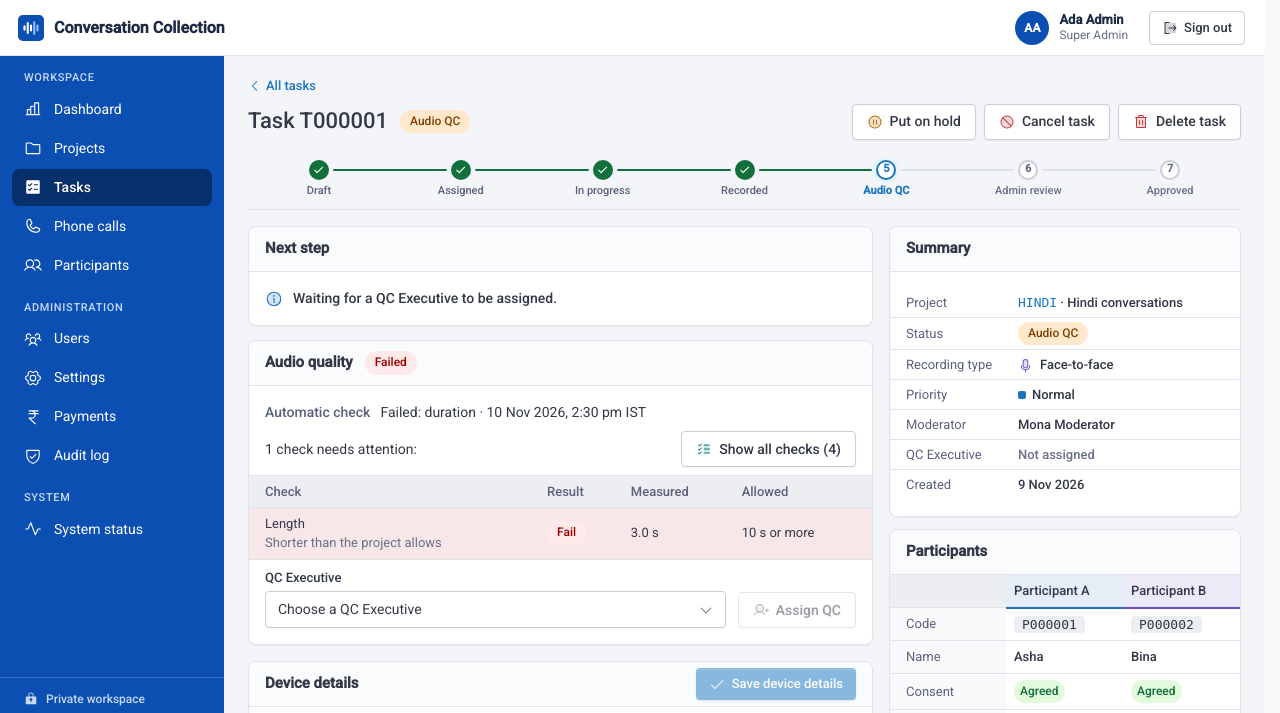
audio quality card › lets a manager assign a QC Executive, never the session's moderator
Step 1. Select "Quinn QC (quinn@example.org)" in the dropdown labelled "QC Executive" → (495, 610), box [265, 591, 726, 628]
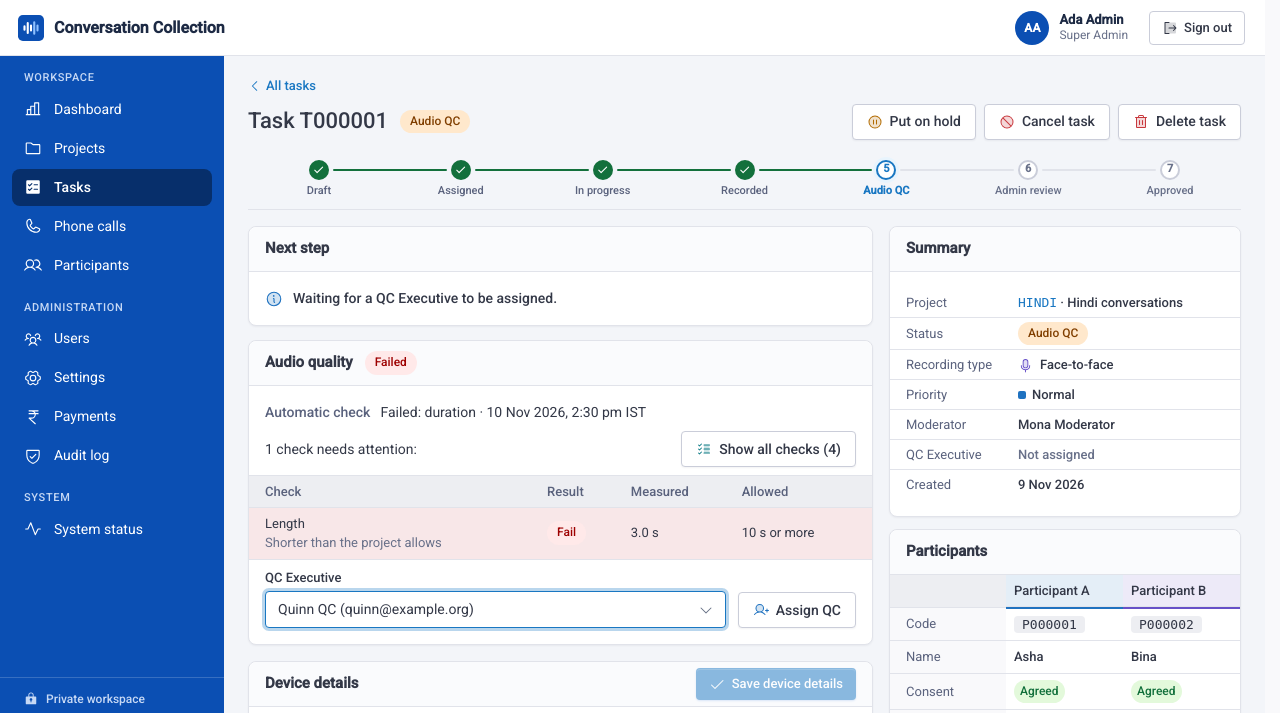
Step 2. Click the button "Assign QC" → (797, 610), box [738, 592, 856, 628]
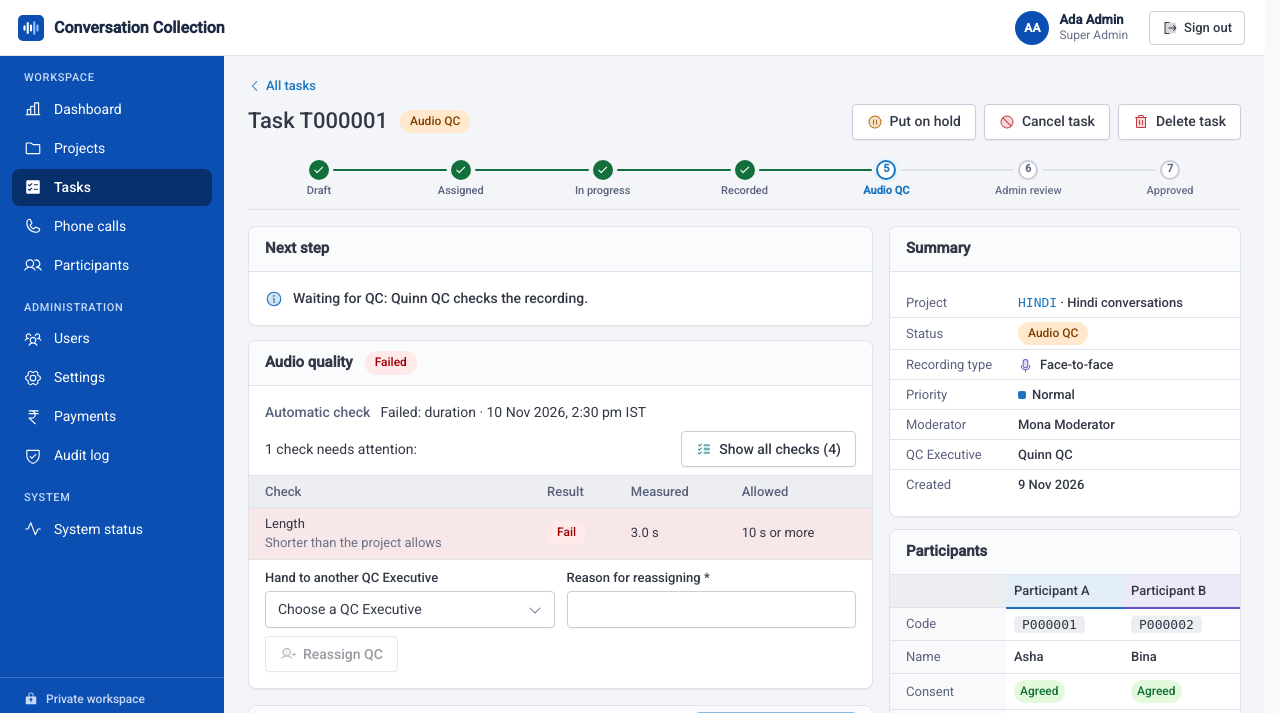
Check: the text "Quinn QC" is shown, box [1018, 447, 1073, 462]
